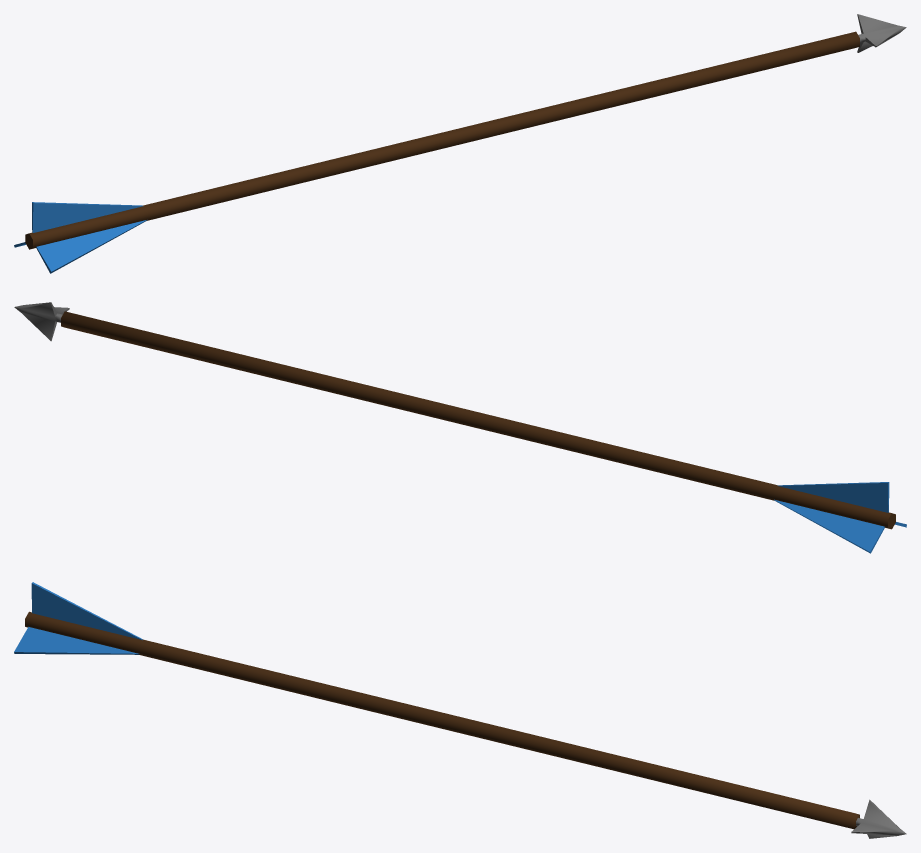
File: Arrow.fbx
3 renders of one model, top to bottom at view 1: azimuth 30°, elevation 25°; view 2: azimuth 150°, elevation 25°; view 3: azimuth 330°, elevation 25°, orthographic.
Parts seen in each view (by area): view 1: Arrow 3; view 2: Arrow 3; view 3: Arrow 3.
Boxes of the visible parts, x1,y1,x2,y2 form: Arrow 3: (14,14,906,273); Arrow 3: (14,302,906,553); Arrow 3: (14,582,906,838).
Size of the model in its own units: 0.5044 by 0.032 by 0.037.
